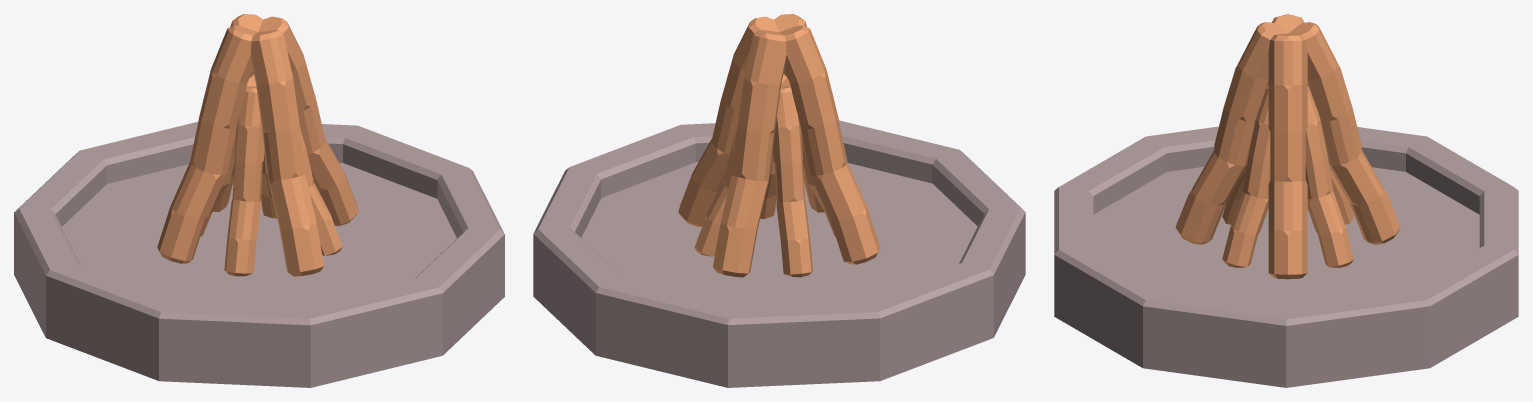
Rendered from 021 Fire_pit.FBX.
3 renders of one model, left to right at view 1: azimuth 30°, elevation 25°; view 2: azimuth 150°, elevation 25°; view 3: azimuth 270°, elevation 25°, orthographic.
Visible parts, largest first — view 1: Cylinder156, Cylinder159, Cylinder157, Cylinder161, Cylinder158, Cylinder163, Cylinder160, Cylinder162, Cylinder164; view 2: Cylinder156, Cylinder160, Cylinder157, Cylinder164, Cylinder158, Cylinder162, Cylinder159, Cylinder163, Cylinder161; view 3: Cylinder156, Cylinder158, Cylinder160, Cylinder159, Cylinder162, Cylinder163, Cylinder164, Cylinder161.
Boxes of the visible parts, x1=… form: Cylinder156: x1=14, y1=122, x2=504, y2=387; Cylinder159: x1=251, y1=29, x2=323, y2=276; Cylinder157: x1=157, y1=25, x2=257, y2=263; Cylinder161: x1=224, y1=86, x2=264, y2=276; Cylinder158: x1=258, y1=16, x2=358, y2=226; Cylinder163: x1=300, y1=128, x2=342, y2=255; Cylinder160: x1=213, y1=14, x2=262, y2=211; Cylinder162: x1=250, y1=74, x2=276, y2=218; Cylinder164: x1=200, y1=77, x2=256, y2=236; Cylinder156: x1=533, y1=120, x2=1025, y2=387; Cylinder160: x1=713, y1=29, x2=786, y2=277; Cylinder157: x1=779, y1=25, x2=880, y2=264; Cylinder164: x1=773, y1=86, x2=812, y2=277; Cylinder158: x1=678, y1=16, x2=778, y2=226; Cylinder162: x1=694, y1=128, x2=737, y2=256; Cylinder159: x1=774, y1=14, x2=824, y2=212; Cylinder163: x1=760, y1=74, x2=786, y2=218; Cylinder161: x1=781, y1=77, x2=835, y2=236; Cylinder156: x1=1054, y1=126, x2=1518, y2=387; Cylinder158: x1=1268, y1=33, x2=1307, y2=279; Cylinder160: x1=1288, y1=22, x2=1400, y2=244; Cylinder159: x1=1175, y1=22, x2=1287, y2=244; Cylinder162: x1=1305, y1=86, x2=1353, y2=267; Cylinder163: x1=1222, y1=86, x2=1270, y2=267; Cylinder164: x1=1329, y1=168, x2=1353, y2=224; Cylinder161: x1=1222, y1=169, x2=1246, y2=224.
Bounding box in the file's own units: 100 × 58.6 × 95.11.
